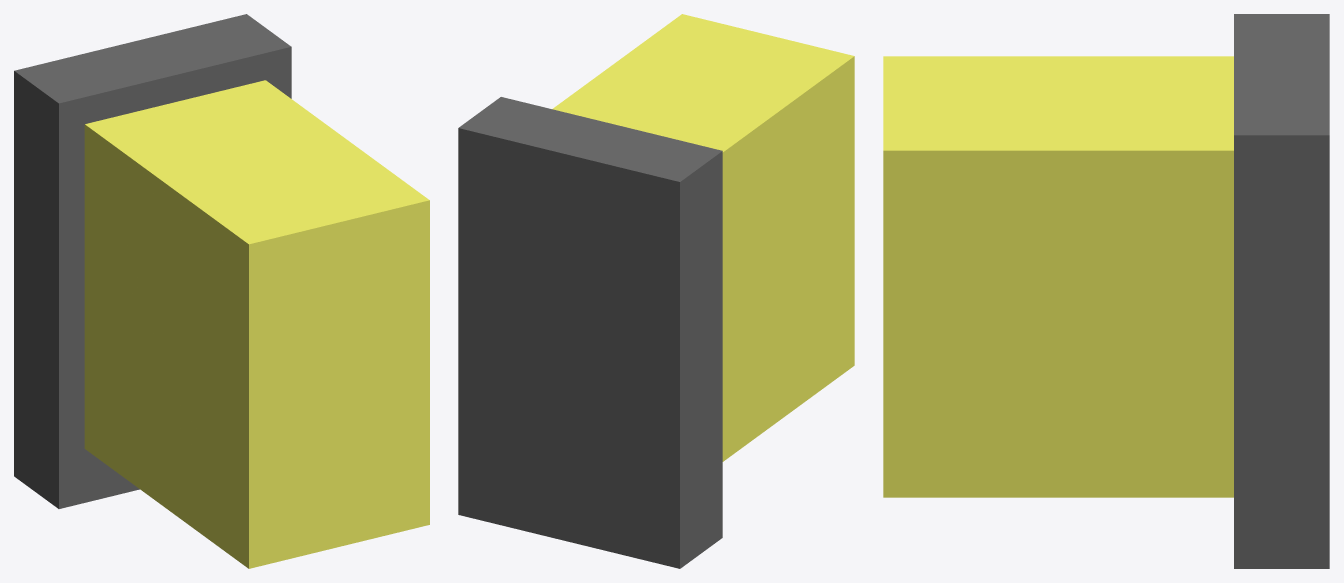
File: boxer leg.obj
3 renders of one model, left to right at view 1: azimuth 30°, elevation 25°; view 2: azimuth 150°, elevation 25°; view 3: azimuth 270°, elevation 25°, orthographic. The views are drawn at different scales.
Size of the model in its own units: 9 by 15 by 14.
1 material, 1 textured.
